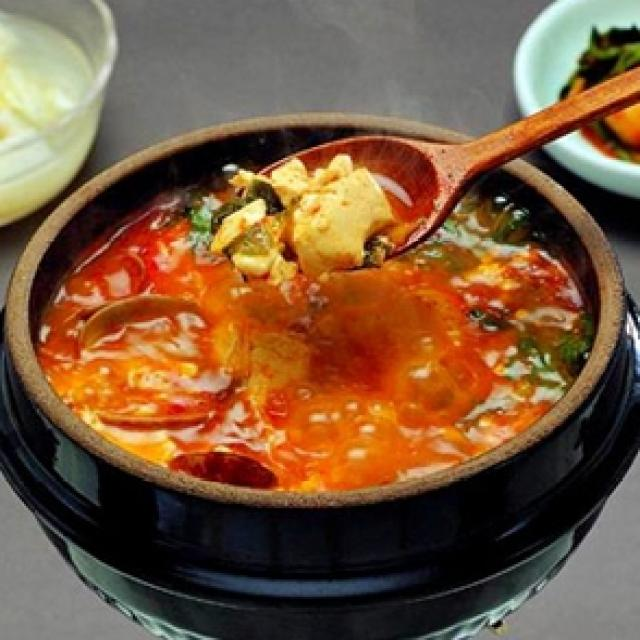米饭主食: (0, 28, 640, 640)
